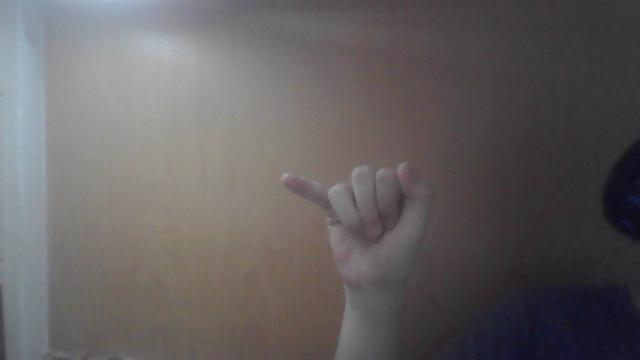Right: (286, 168, 446, 280)
